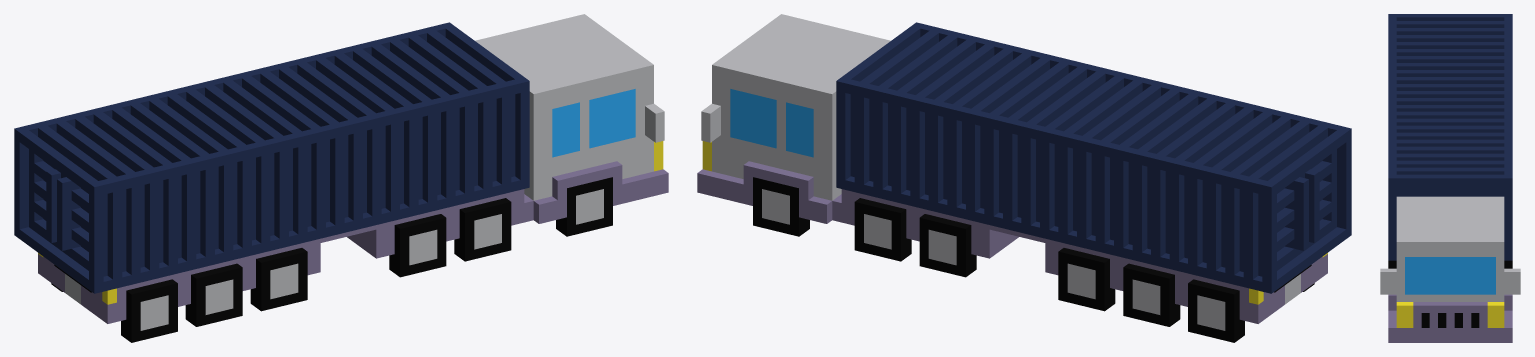
Rendered from cargo_truck_c.obj.
The picture shows the model from 3 angles, left to right: view 1: azimuth 30°, elevation 25°; view 2: azimuth 150°, elevation 25°; view 3: azimuth 270°, elevation 25°; orthographic projection. The views are drawn at different scales.
Bounding box in the file's own units: 6.2 × 1.7 × 1.7.
1 material, 1 textured.
